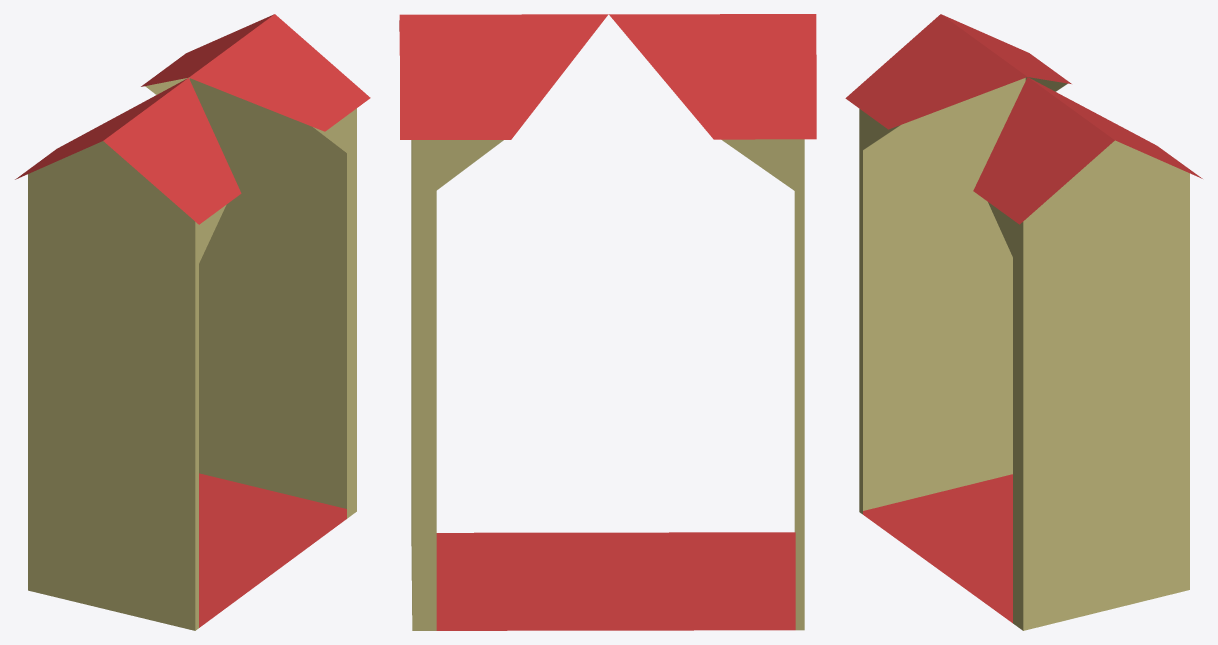
3 renders of one model, left to right at view 1: azimuth 30°, elevation 25°; view 2: azimuth 150°, elevation 25°; view 3: azimuth 270°, elevation 25°, orthographic. The views are drawn at different scales.
Bounding box in the file's own units: 10.03 × 8.85 × 12.89.
